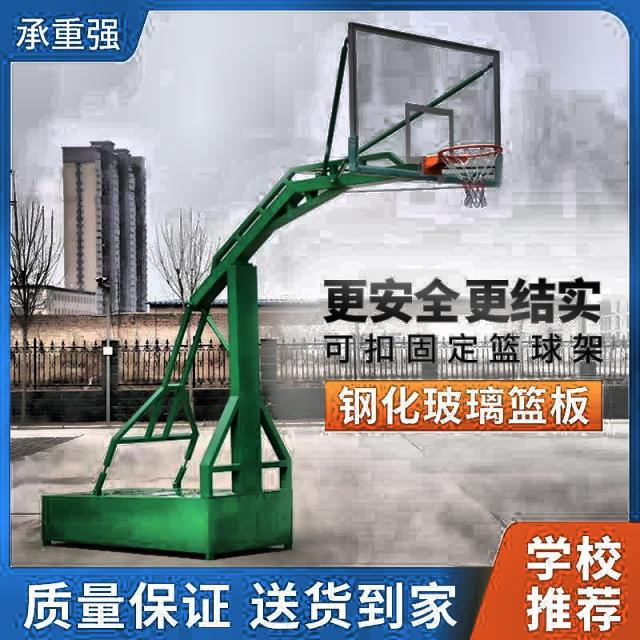rim: (439, 144, 503, 205)
